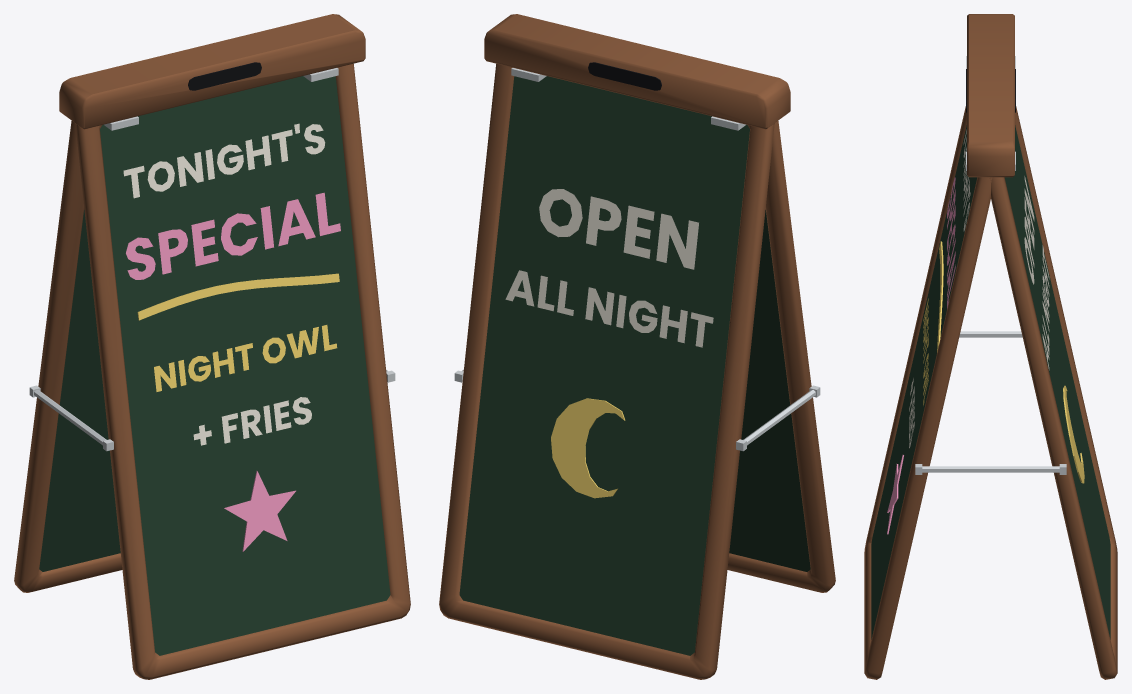
File: Shop_SpecialsBoard.fbx
3 renders of one model, left to right at view 1: azimuth 30°, elevation 25°; view 2: azimuth 150°, elevation 25°; view 3: azimuth 270°, elevation 25°, orthographic.
Visible parts, largest first — view 1: Chalkboard, Wood, ChalkPink, ChalkCream, ChalkYellow, Metal, HandSlot; view 2: Chalkboard, Wood, ChalkCream, ChalkYellow, Metal, HandSlot; view 3: Wood, Chalkboard, ChalkCream, Metal, ChalkYellow, ChalkPink.
Boxes of the visible parts, bbox=[...] form: Chalkboard: bbox=[39, 76, 390, 655]; Wood: bbox=[14, 14, 410, 679]; ChalkPink: bbox=[126, 192, 340, 551]; ChalkCream: bbox=[123, 123, 325, 445]; ChalkYellow: bbox=[137, 273, 339, 391]; Metal: bbox=[29, 68, 395, 451]; HandSlot: bbox=[188, 62, 261, 90]; Chalkboard: bbox=[459, 76, 810, 655]; Wood: bbox=[439, 14, 835, 679]; ChalkCream: bbox=[505, 189, 713, 347]; ChalkYellow: bbox=[551, 398, 625, 498]; Metal: bbox=[454, 68, 820, 451]; HandSlot: bbox=[588, 62, 661, 90]; Wood: bbox=[864, 14, 1117, 679]; Chalkboard: bbox=[871, 125, 1110, 639]; ChalkCream: bbox=[909, 129, 1049, 448]; Metal: bbox=[915, 56, 1066, 474]; ChalkYellow: bbox=[923, 241, 1084, 483]; ChalkPink: bbox=[887, 177, 955, 534].
Bounding box in the file's own units: 275 × 501 × 213.
